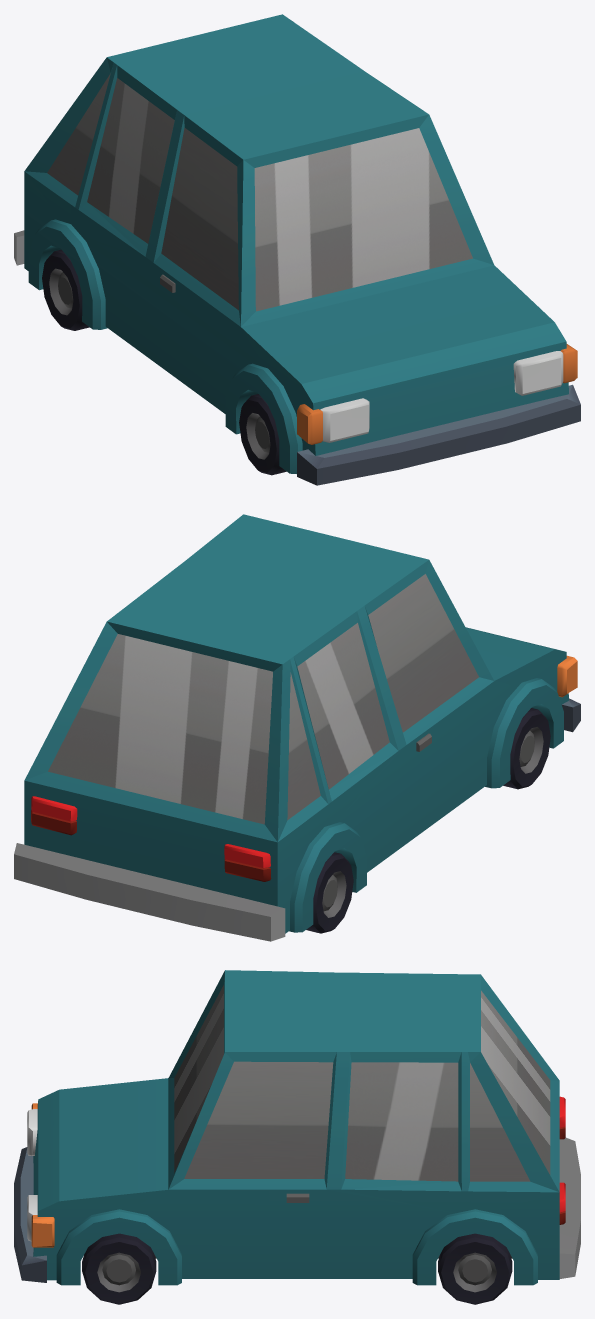
File: Car_1_20.glb
The picture shows the model from 3 angles, top to bottom: view 1: azimuth 30°, elevation 25°; view 2: azimuth 150°, elevation 25°; view 3: azimuth 270°, elevation 25°; orthographic projection. The views are drawn at different scales.
Parts seen in each view (by area): view 1: Car_1_20, Wheel_Br, Wheel_Fr; view 2: Car_1_20, Wheel_Fr, Wheel_Br; view 3: Car_1_20, Wheel_Bl, Wheel_Fl.
Part boxes in pixels (left/top/right/bottom): Car_1_20: left=14, top=14, right=580, bottom=485; Wheel_Br: left=42, top=249, right=89, bottom=330; Wheel_Fr: left=239, top=394, right=286, bottom=475; Car_1_20: left=14, top=514, right=580, bottom=941; Wheel_Fr: left=503, top=708, right=550, bottom=789; Wheel_Br: left=306, top=852, right=353, bottom=933; Car_1_20: left=14, top=970, right=580, bottom=1285; Wheel_Bl: left=438, top=1233, right=512, bottom=1304; Wheel_Fl: left=82, top=1233, right=156, bottom=1304.
Size of the model in its own units: 1.05 by 0.9433 by 2.06.
Materials: 4 (4 with a texture image).
